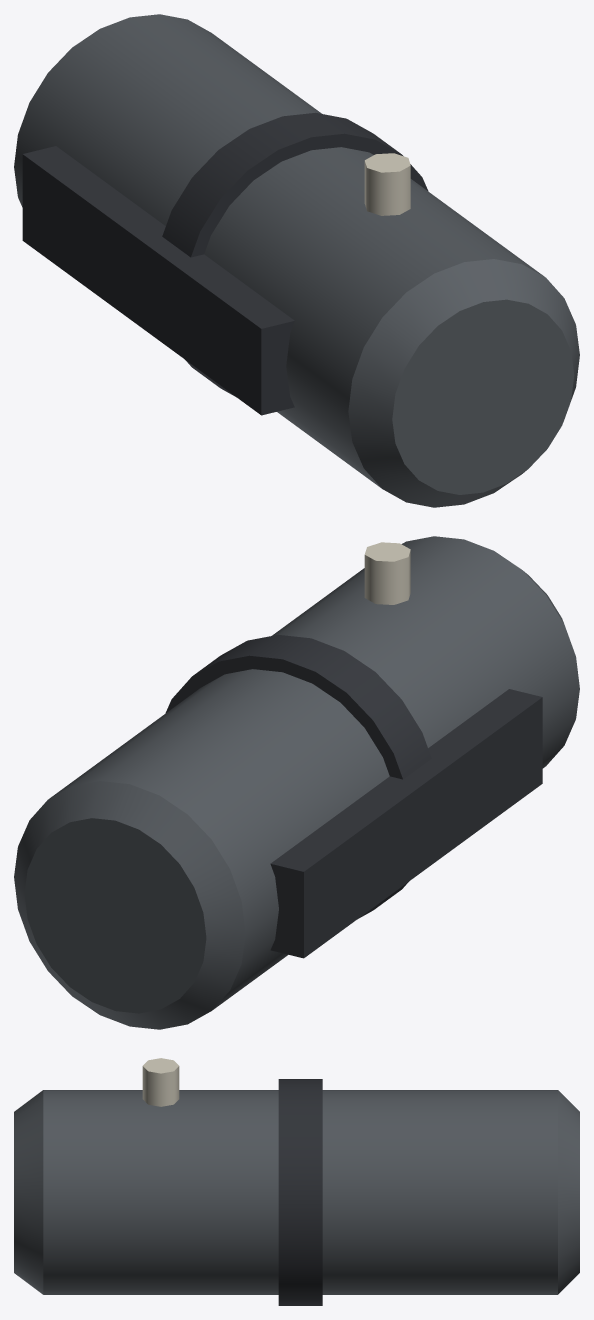
The model's file is sr150_starter.obj.
The picture shows the model from 3 angles, top to bottom: view 1: azimuth 30°, elevation 25°; view 2: azimuth 150°, elevation 25°; view 3: azimuth 270°, elevation 25°; orthographic projection. The views are drawn at different scales.
Parts seen in each view (by area): view 1: sr150_starter; view 2: sr150_starter; view 3: sr150_starter.
Part boxes in pixels (x1,y1,x2,y2): sr150_starter: (14,14,579,507); sr150_starter: (14,536,579,1029); sr150_starter: (14,1058,579,1305).
Bounding box in the file's own units: 0.325 × 0.345 × 0.77.
